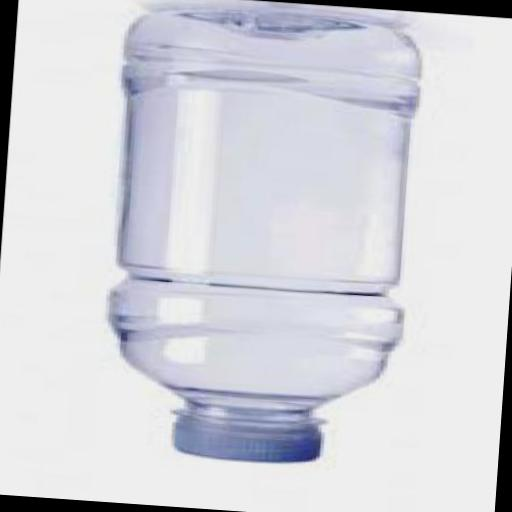plastic: (105, 0, 424, 471), (176, 412, 324, 467)
